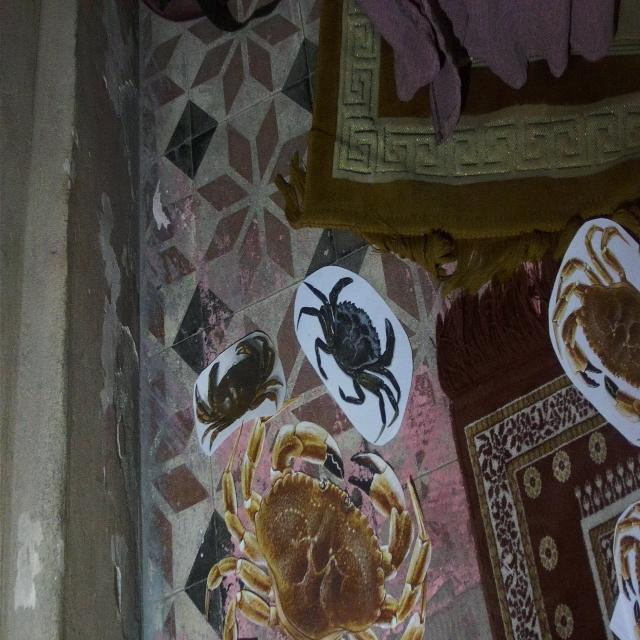European_Green_Crab: (285, 241, 419, 445)
